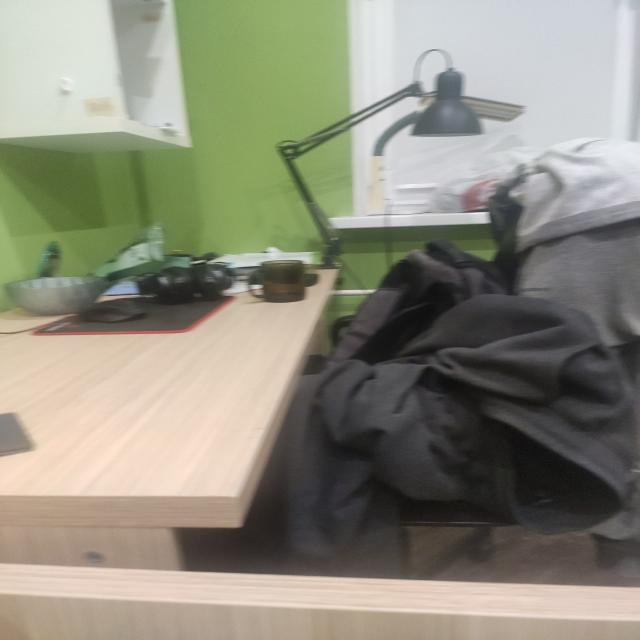cups: (261, 260, 305, 302)
